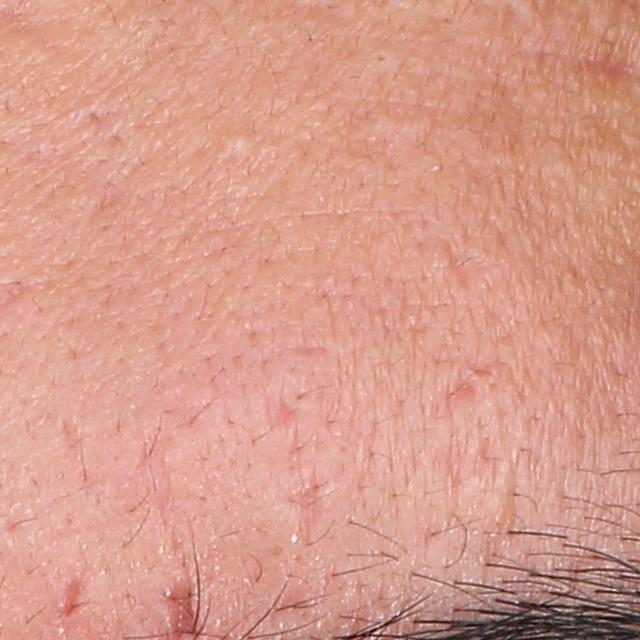atrophic_scar: (283, 473, 325, 544), (65, 573, 86, 619)
comedo: (223, 129, 257, 158)
